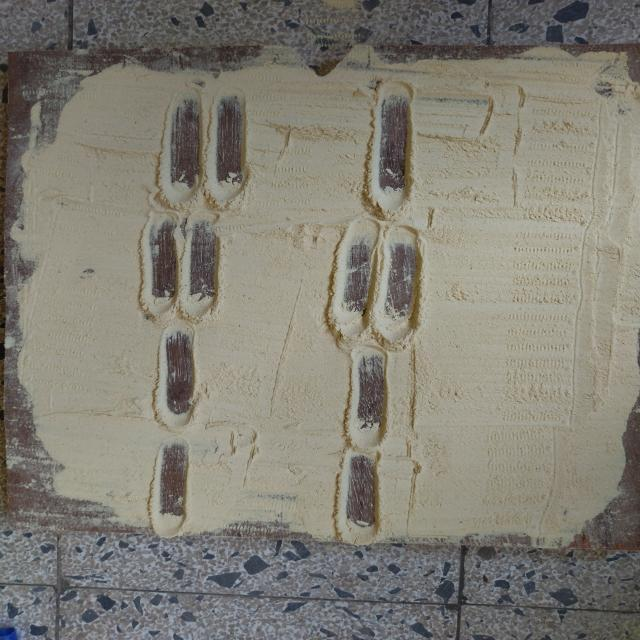double: (321, 215, 430, 346), (154, 83, 256, 215), (134, 214, 228, 322)
single: (362, 74, 420, 222), (150, 320, 210, 434), (337, 338, 395, 452), (328, 444, 388, 546), (146, 434, 194, 538)
